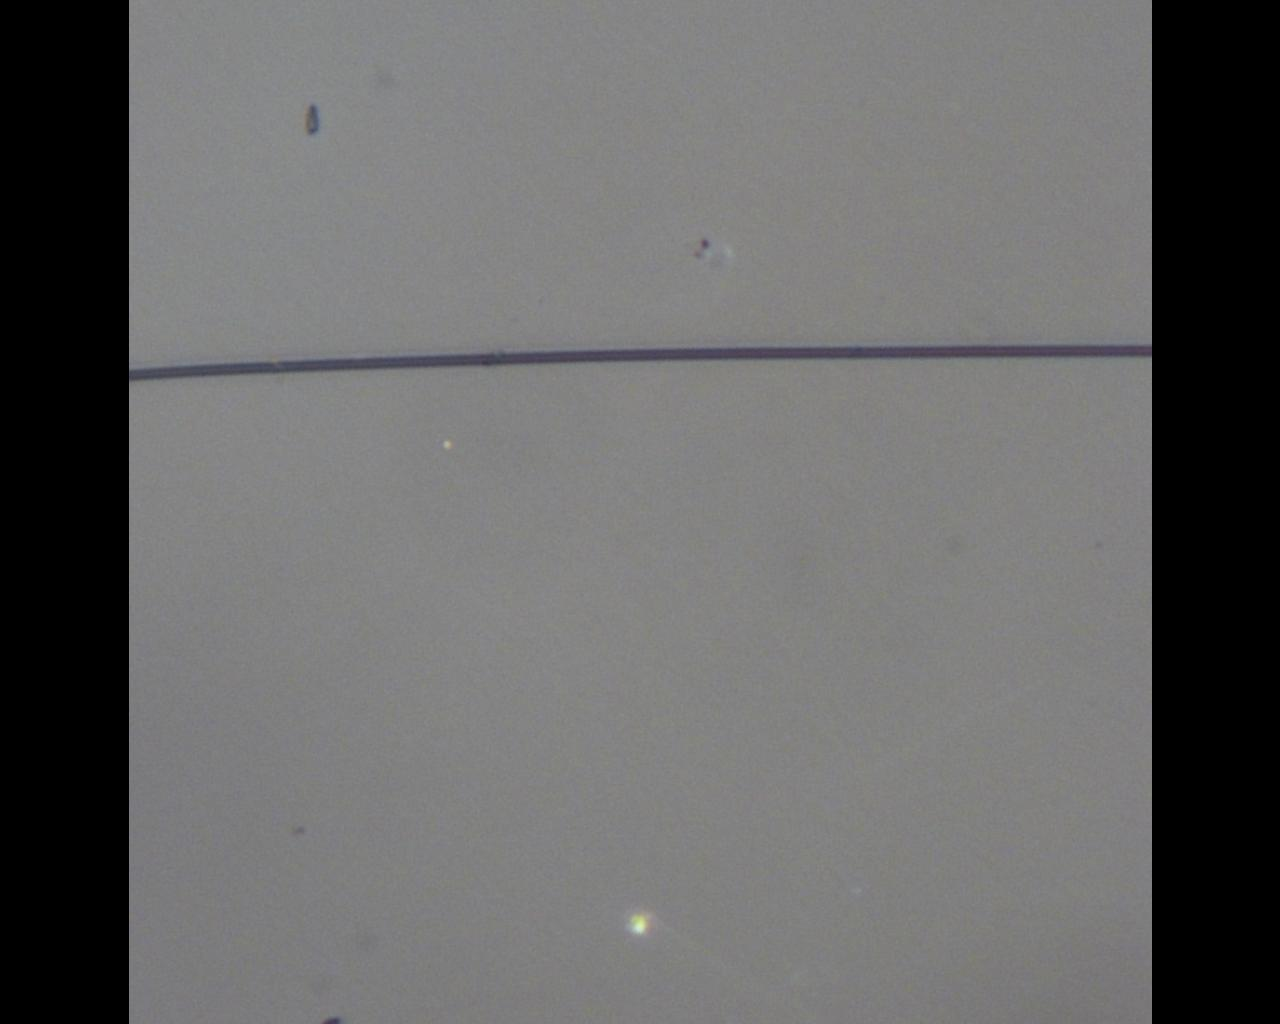fiber: (127, 343, 1151, 385)
